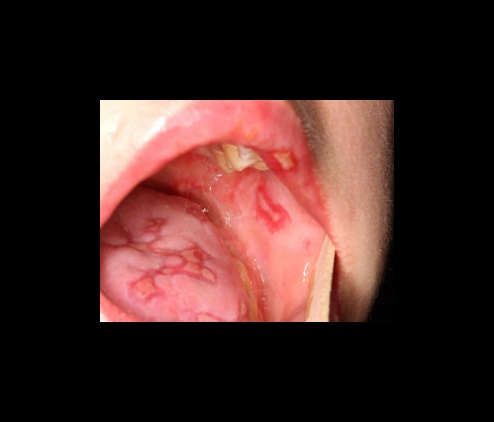SJS-TEN: (97, 98, 363, 322)
